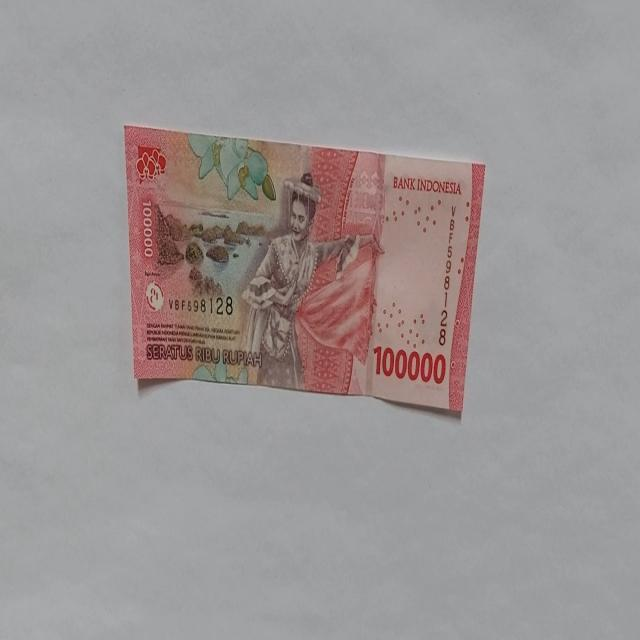seratus ribu rupiah: (124, 124, 486, 418), (238, 172, 362, 390)
